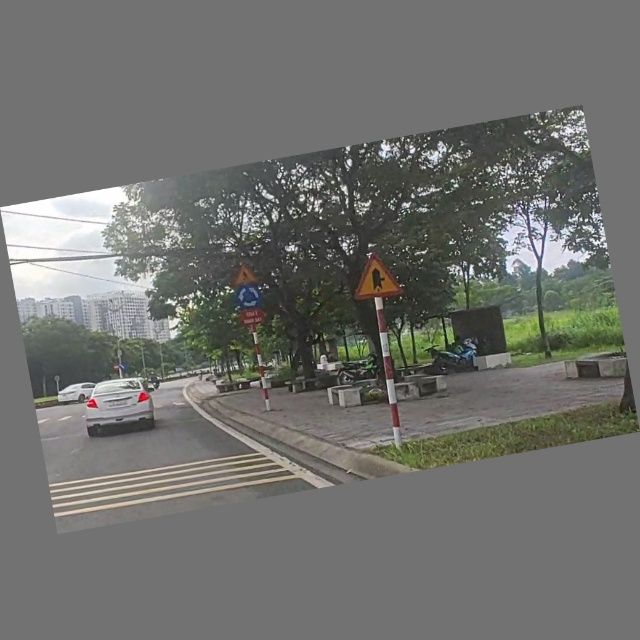P.102: (112, 364, 120, 372)
R.302a: (119, 363, 128, 373)
R.303: (236, 285, 264, 310)
W.207: (345, 247, 407, 305)
W.224: (232, 262, 260, 288)
